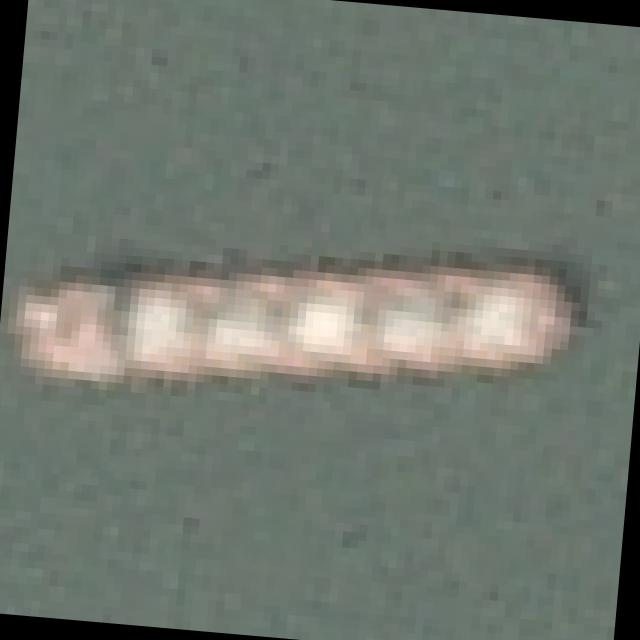ship: (0, 146, 604, 490)
